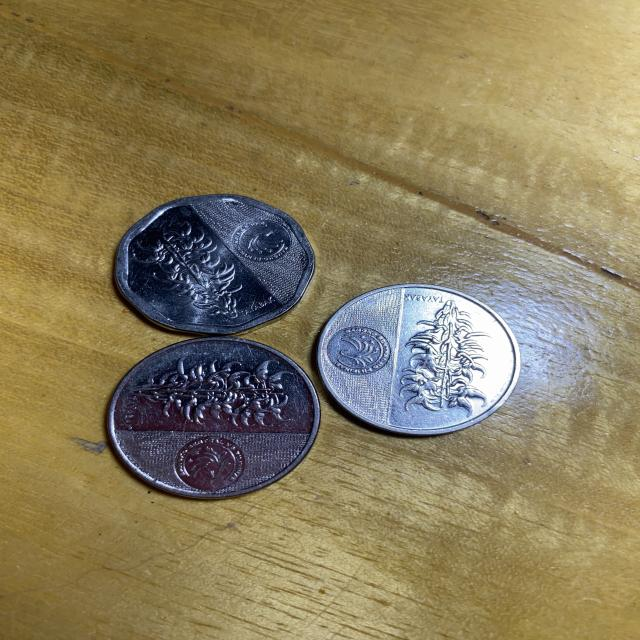5_New_Back: (136, 218, 270, 330), (409, 293, 496, 423)
